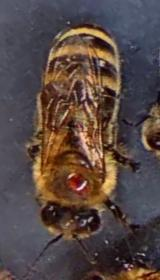varroa_mite: (61, 158, 91, 206)
